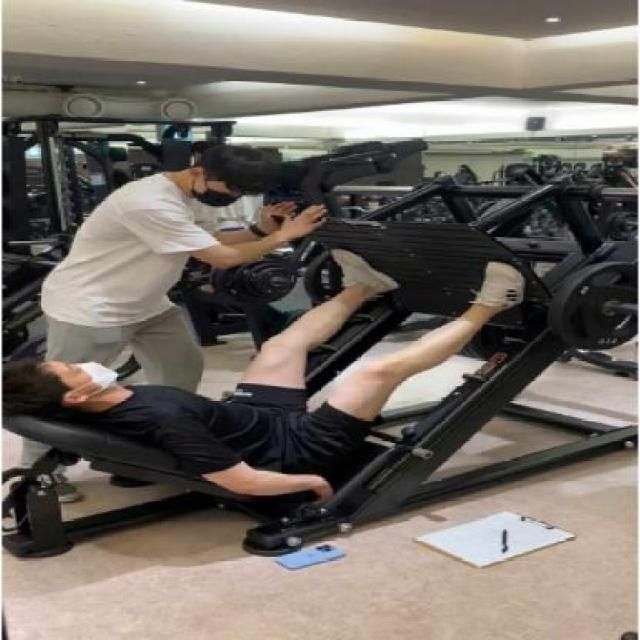leg press: (0, 129, 640, 589)
